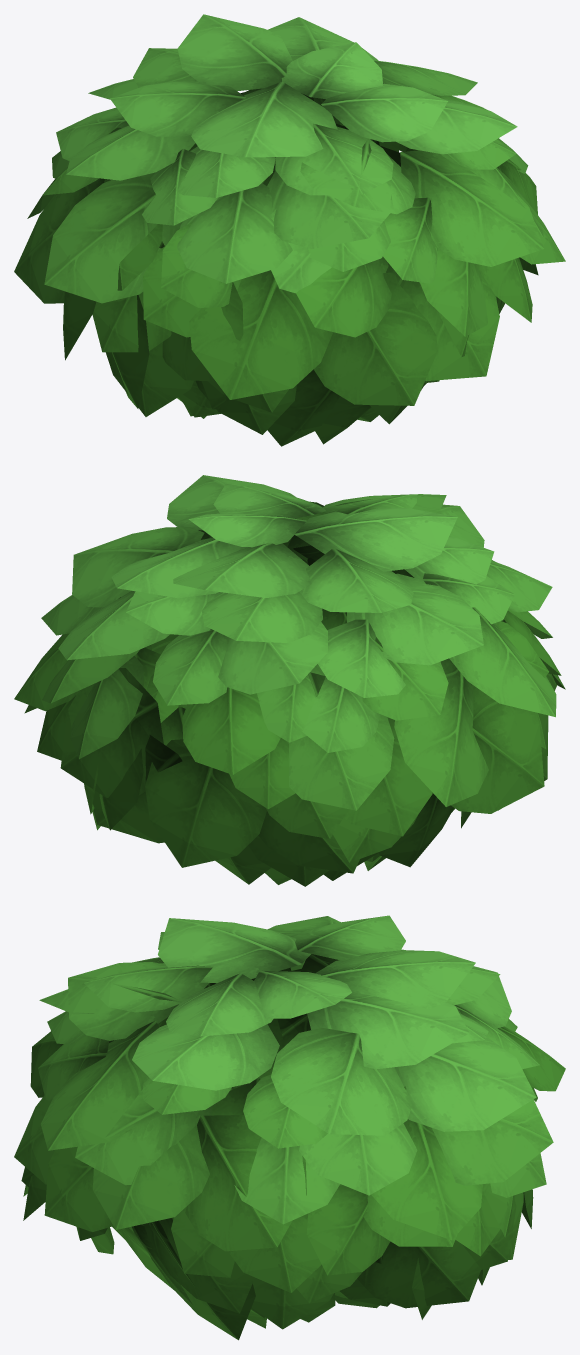
3 views of the same model, one above another, from view 1: azimuth 30°, elevation 25°; view 2: azimuth 150°, elevation 25°; view 3: azimuth 270°, elevation 25° (orthographic). The views are drawn at different scales.
Visible parts, largest first — view 1: grid_5_leaves_LOD0; view 2: grid_5_leaves_LOD0; view 3: grid_5_leaves_LOD0.
Boxes of the visible parts, bbox=[...] form: grid_5_leaves_LOD0: bbox=[14, 14, 565, 446]; grid_5_leaves_LOD0: bbox=[14, 475, 565, 886]; grid_5_leaves_LOD0: bbox=[14, 915, 565, 1340].
Size of what is drawn, in the model's own units: 1.44 by 0.927 by 1.35.
1 material, 1 textured.
